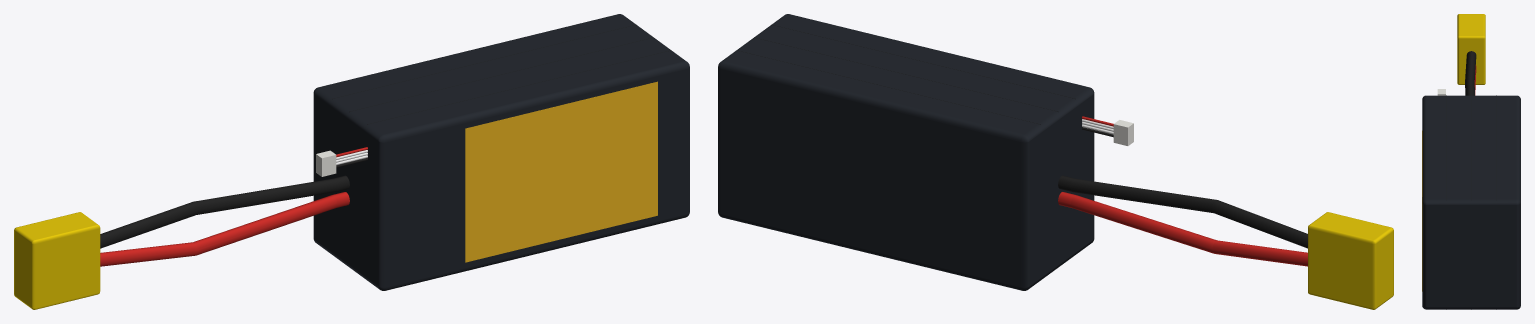
File: tattu-funfly-4s-1300.glb
The picture shows the model from 3 angles, left to right: view 1: azimuth 30°, elevation 25°; view 2: azimuth 150°, elevation 25°; view 3: azimuth 270°, elevation 25°; orthographic projection. The views are drawn at different scales.
Parts seen in each view (by area): view 1: body, label, connector, lead_red, lead_black, balance_plug; view 2: body, connector, lead_red, lead_black, balance_plug; view 3: body, connector, lead_black, label, cell_seam_1, cell_seam_2, cell_seam_3.
Boxes of the visible parts, x1=… form: body: x1=313, y1=14, x2=689, y2=290; label: x1=465, y1=81, x2=657, y2=262; connector: x1=14, y1=212, x2=100, y2=309; lead_red: x1=100, y1=192, x2=349, y2=266; lead_black: x1=100, y1=175, x2=349, y2=248; balance_plug: x1=316, y1=150, x2=336, y2=176; body: x1=718, y1=14, x2=1094, y2=290; connector: x1=1308, y1=212, x2=1393, y2=309; lead_red: x1=1058, y1=192, x2=1307, y2=266; lead_black: x1=1058, y1=175, x2=1307, y2=248; balance_plug: x1=1113, y1=120, x2=1133, y2=145; body: x1=1422, y1=95, x2=1520, y2=309; connector: x1=1457, y1=14, x2=1485, y2=84; lead_black: x1=1465, y1=51, x2=1476, y2=95; label: x1=1422, y1=131, x2=1422, y2=291; cell_seam_1: x1=1496, y1=95, x2=1496, y2=199; cell_seam_2: x1=1471, y1=95, x2=1471, y2=199; cell_seam_3: x1=1446, y1=95, x2=1446, y2=199.
Bounding box in the file's own units: 149 × 35.04 × 28.54.
